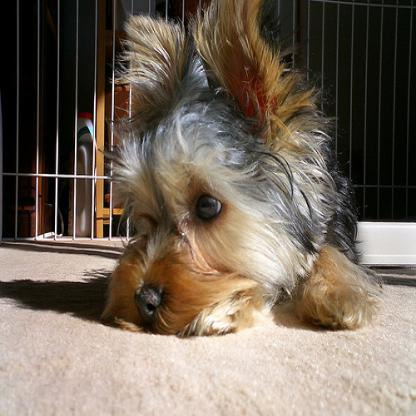dog: (102, 0, 383, 335)
